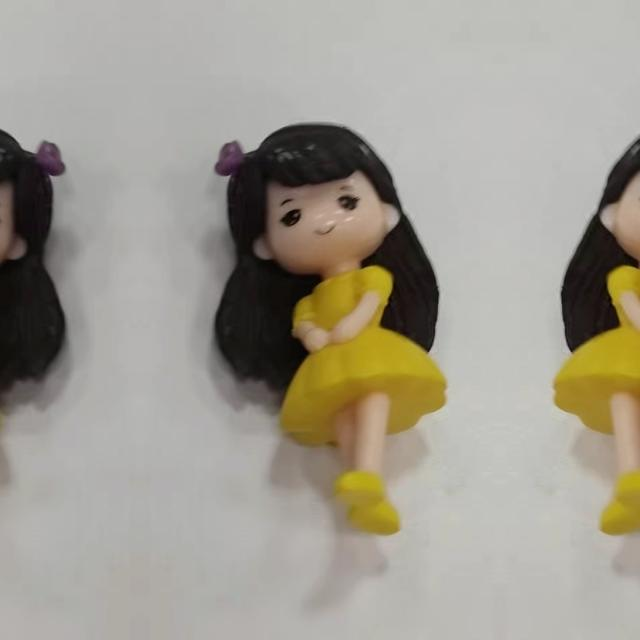woman dress: (288, 274, 454, 542), (545, 274, 640, 541)
woman head: (207, 120, 409, 286), (0, 120, 73, 285), (591, 120, 640, 285)
